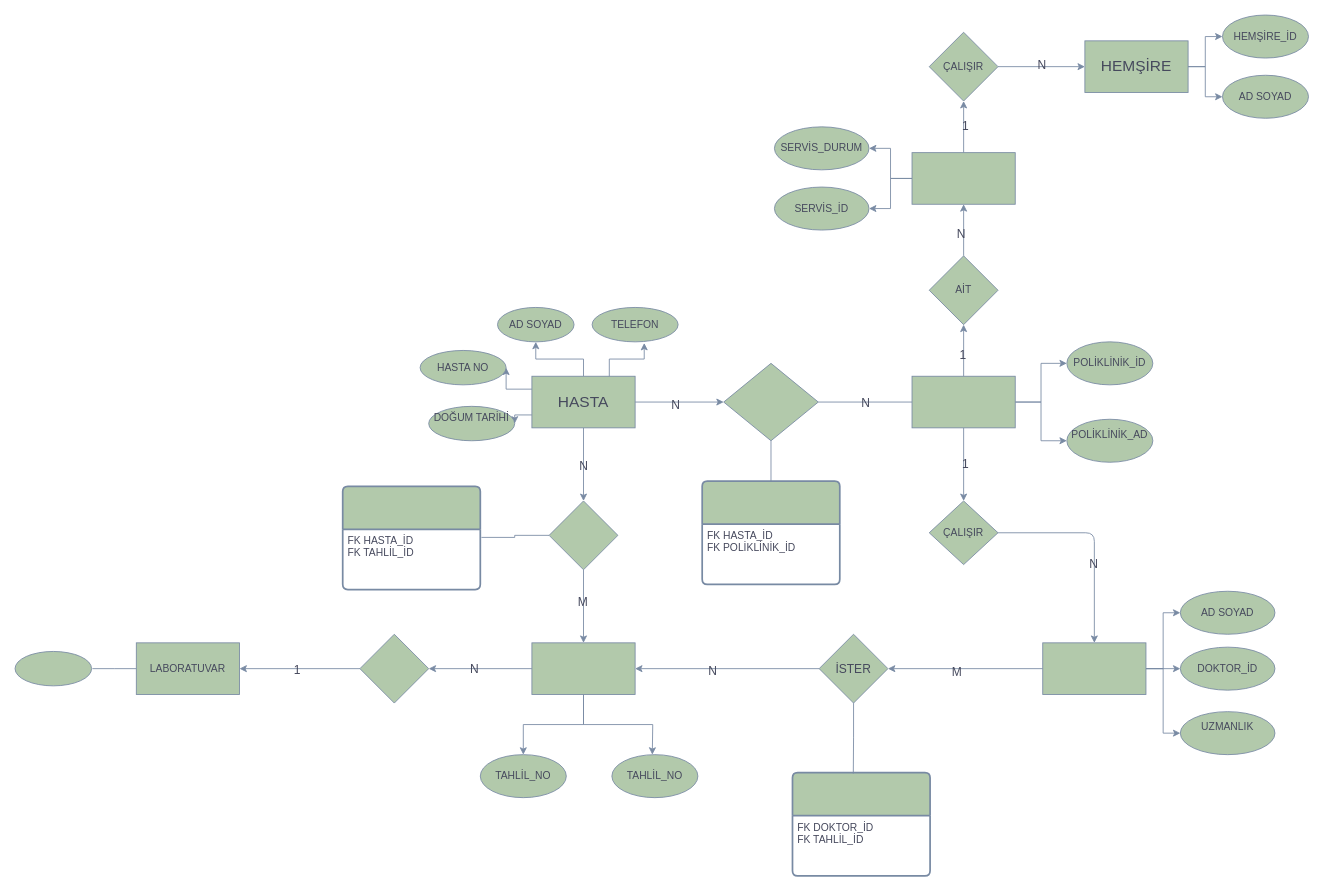
This 1324x892 diagram has some shape labels left out. The box of each missing label's shape, as (x1, y1, x2, y2) in pixels:
DOKTOR: (1042, 642, 1146, 694)
LAB_İD: (14, 651, 92, 686)
MUAYENE OLUR: (723, 362, 818, 441)
MUAYENE_OLUS: (701, 480, 840, 585)
POLİKLİNİK: (911, 375, 1015, 428)
SERVİS: (911, 152, 1015, 204)
TAHLİL: (531, 642, 635, 694)
TAHLİL_BİLGİSİ: (791, 771, 931, 876)
TAHLİL_İSTEĞİ: (341, 485, 481, 590)
YAPILIR: (359, 633, 429, 703)
YAPTIRIR: (548, 500, 618, 570)
